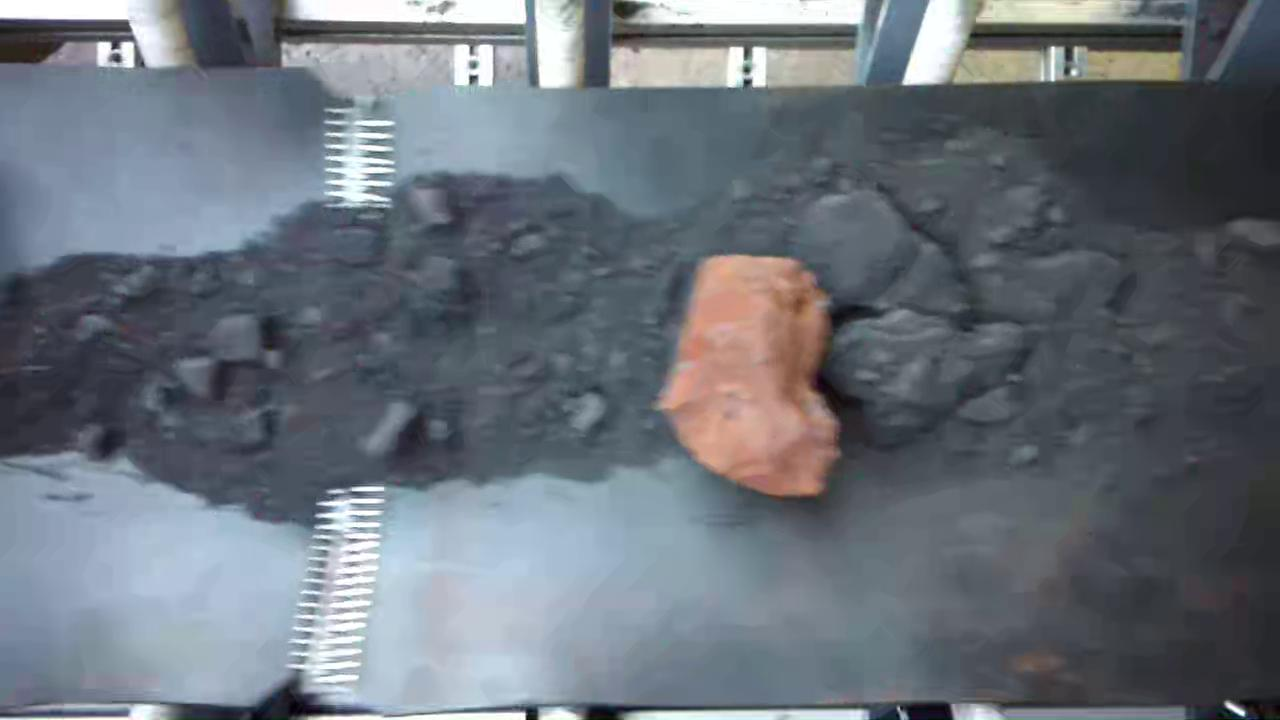conveyor: (6, 89, 1280, 695)
